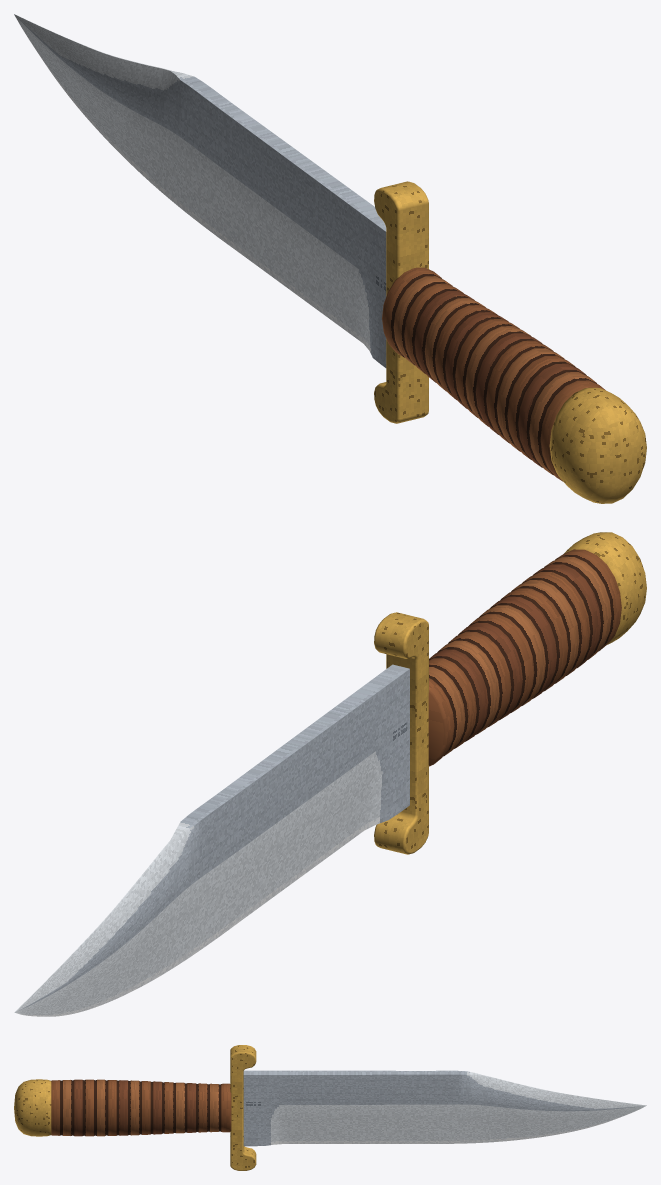
The model's file is w_knife_bowie.glb.
The picture shows the model from 3 angles, top to bottom: view 1: azimuth 30°, elevation 25°; view 2: azimuth 150°, elevation 25°; view 3: azimuth 270°, elevation 25°; orthographic projection. The views are drawn at different scales.
Visible parts, largest first — view 1: kbowie_blade_wzB, kbowie_grip_wzA; view 2: kbowie_blade_wzB, kbowie_grip_wzA; view 3: kbowie_blade_wzB, kbowie_grip_wzA.
Part boxes in pixels (x1,y1,x2,y2): kbowie_blade_wzB: (14,14,386,367); kbowie_grip_wzA: (374,181,646,503); kbowie_blade_wzB: (14,664,409,1016); kbowie_grip_wzA: (374,532,646,854); kbowie_blade_wzB: (243,1070,646,1146); kbowie_grip_wzA: (14,1045,256,1170).
Bounding box in the file's own units: 0.026 × 0.0744 × 0.3587.
3 materials, 3 textured.
